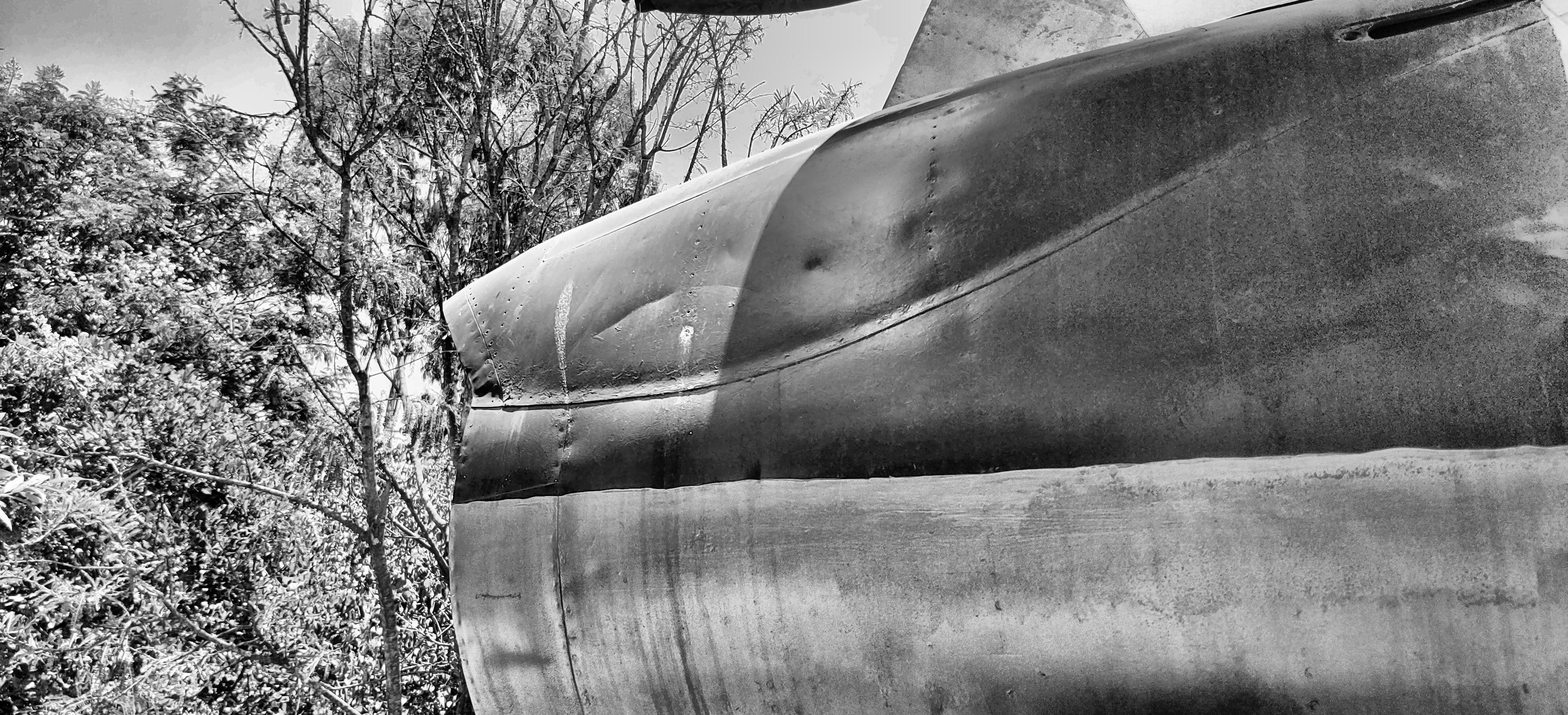dent: (902, 208, 951, 263), (927, 165, 968, 200), (486, 646, 553, 666), (558, 430, 579, 456), (722, 239, 740, 265), (802, 255, 821, 276), (753, 459, 765, 483)
scratch: (594, 288, 676, 341)
